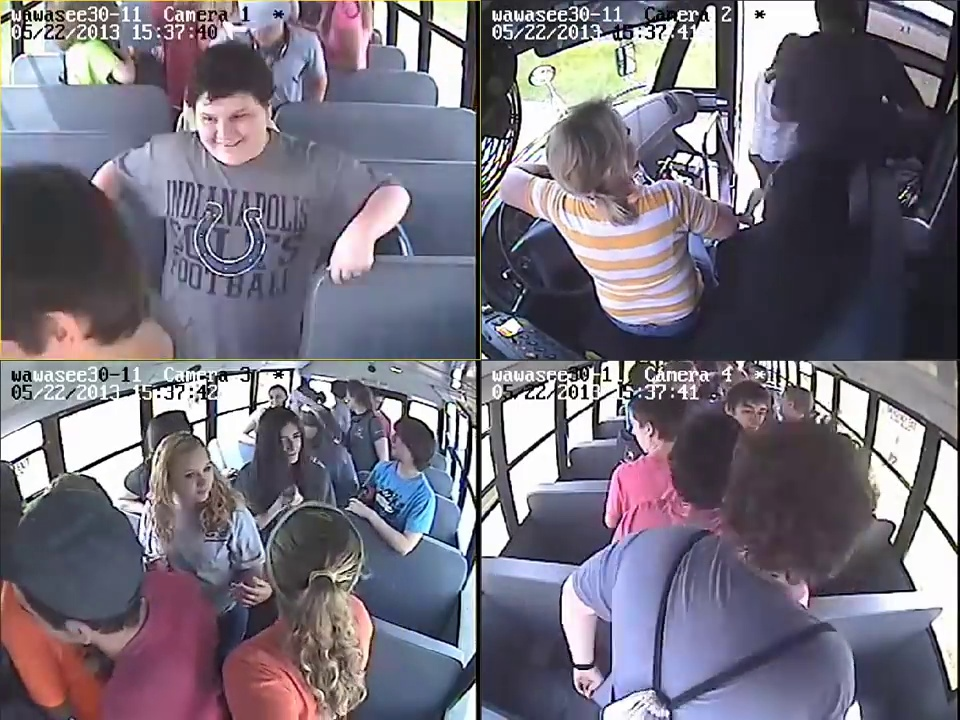face: (199, 92, 254, 170), (171, 454, 215, 502), (736, 386, 771, 428), (272, 427, 304, 466), (387, 430, 407, 467), (263, 391, 284, 408)
